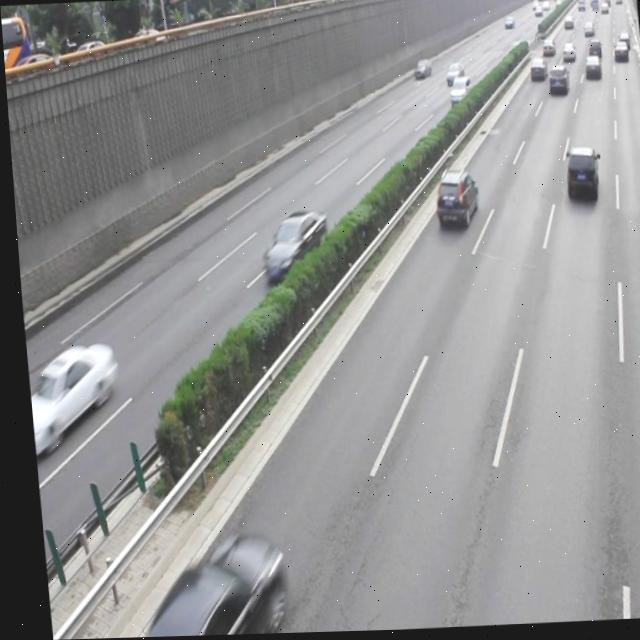car: (21, 342, 114, 455), (254, 209, 327, 281), (428, 169, 478, 231), (558, 145, 595, 206)
